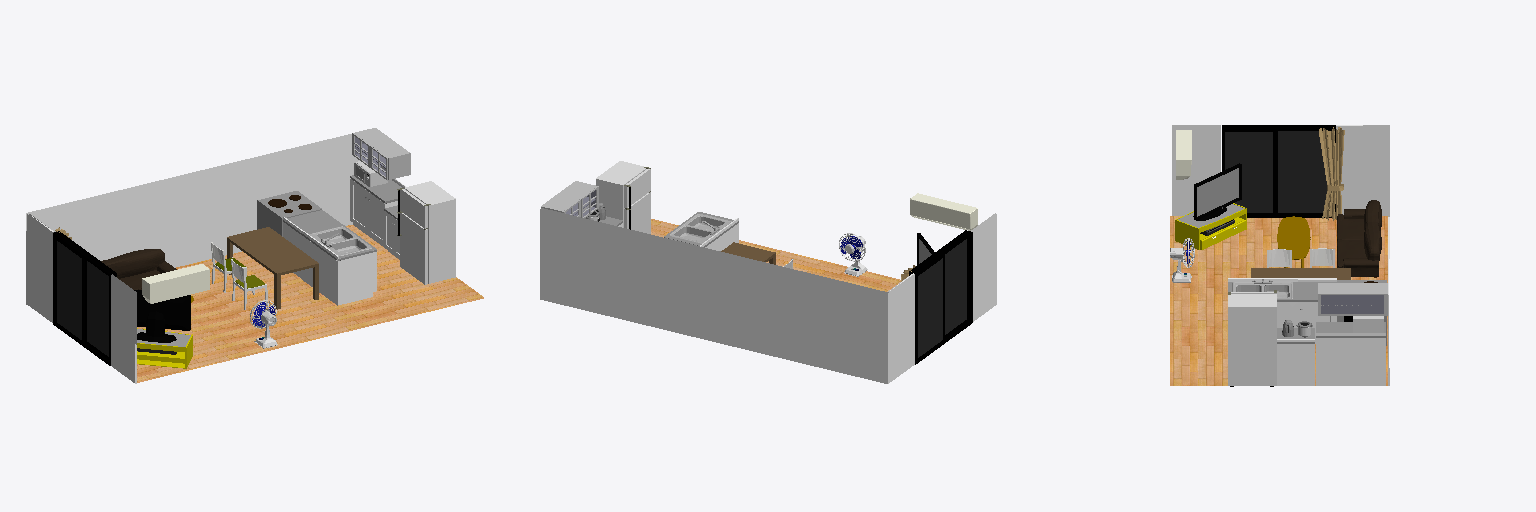
3 renders of one model, left to right at view 1: azimuth 30°, elevation 25°; view 2: azimuth 150°, elevation 25°; view 3: azimuth 270°, elevation 25°, orthographic.
Visible parts, largest first — view 1: smarthouse4; view 2: smarthouse4; view 3: smarthouse4.
Part boxes in pixels (x1,y1,x2,y2): smarthouse4: (26, 128, 483, 383); smarthouse4: (540, 161, 996, 383); smarthouse4: (1170, 125, 1389, 386).
Size of the model in its own units: 4.03 by 1.07 by 2.18.
83 materials, 1 textured.